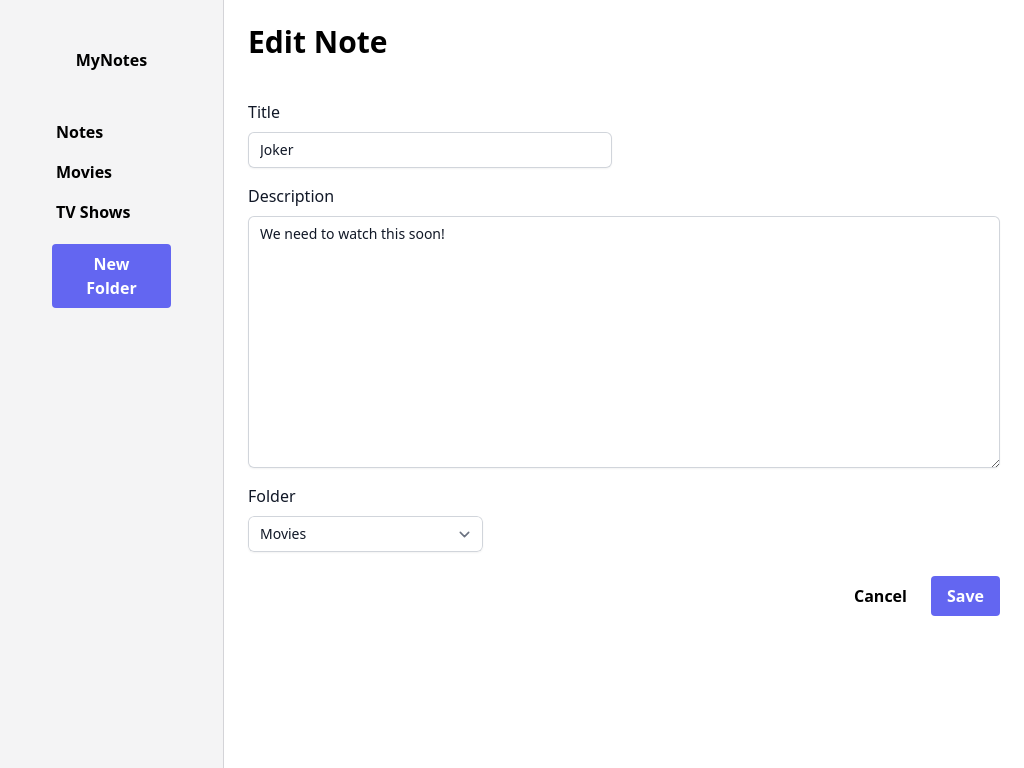
should navigate back to the note page, when the the note is updated and folder is unchanged
The width and height of the screenshot is (1024, 768).
Select "Movies" in the dropdown labelled "Folder" at {"x": 365, "y": 534}, box [248,516,483,552]
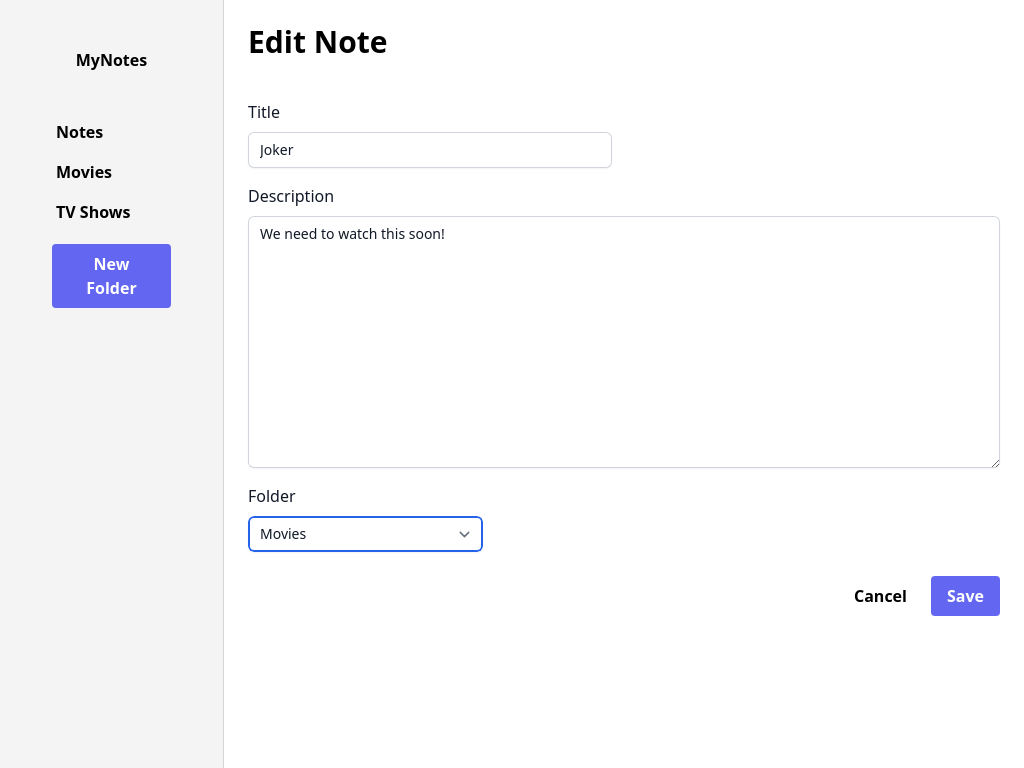
Click the button "Save" at {"x": 966, "y": 596}, box [931,576,1000,616]
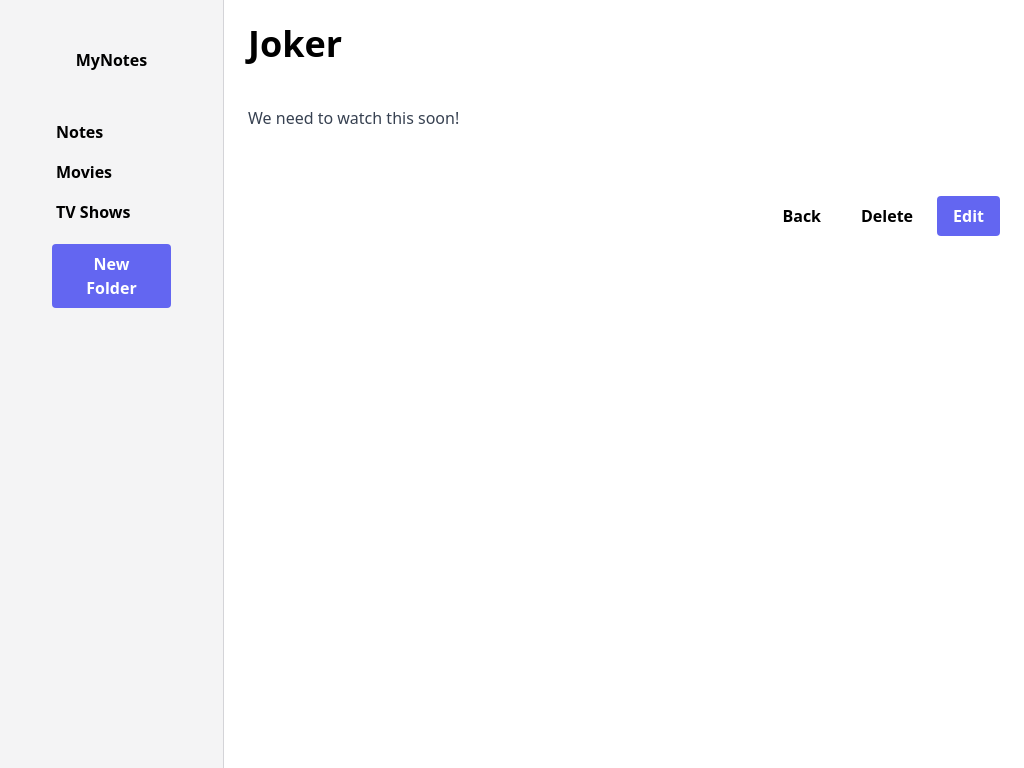
Expected: the heading "Joker" is shown, [248,19,342,68]
Expected: the text "We need to watch this soon!" is shown, [248,107,459,129]
